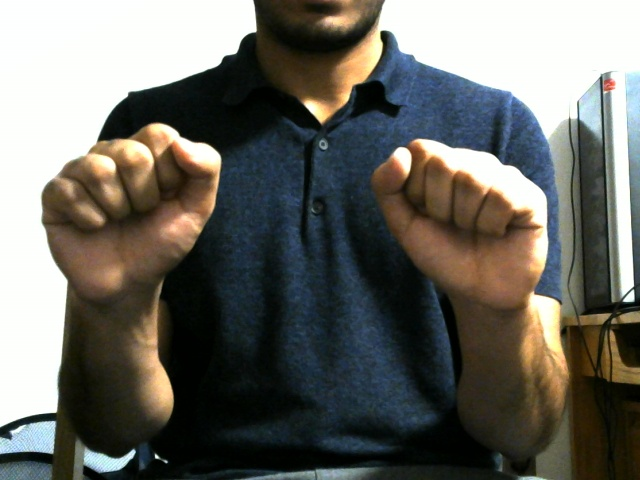can: (38, 116, 586, 450)
